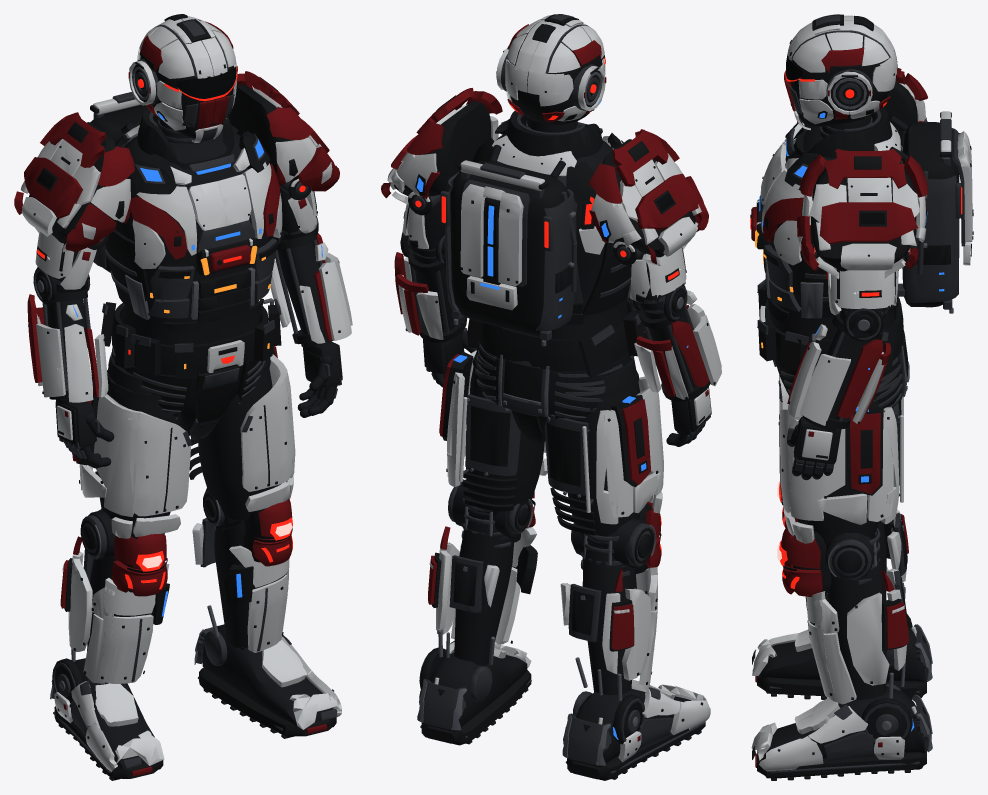
Rendered from sb_soldier_v3.glb.
The picture shows the model from 3 angles, left to right: view 1: azimuth 30°, elevation 25°; view 2: azimuth 150°, elevation 25°; view 3: azimuth 270°, elevation 25°; orthographic projection.
Visible parts, largest first — view 1: torso_undersuit, thigh_front_R, thigh_undersuit_L, thigh_front_L, boot_shaft_L, thigh_side_front_R, shin_lower_R, shin_undersuit_L, shin_lower_L, boot_sole_L, shoulder_undershell_L, belt (+86 smaller); view 2: pack_body, shin_undersuit_L, belt, shin_undersuit_R, pack_side_flank_R, shoulder_undershell_L, torso_undersuit, boot_shaft_L, thigh_undersuit_R, thigh_undersuit_L, torso_collar, pack_panel_R (+74 smaller); view 3: pack_side_flank_L, shoulder_outer_side_L, shin_side_L, shin_undersuit_L, boot_shaft_R, thigh_side_front_L, pack_body, upperarm_plate_side_L, forearm_outer_side_L, torso_undersuit, boot_sole_L, boot_shaft_L (+76 smaller).
Boxes of the visible parts, x1,y1,x2,y2 form: torso_undersuit: [115, 126, 269, 378]; thigh_front_R: [130, 411, 191, 516]; thigh_undersuit_L: [198, 359, 273, 519]; thigh_front_L: [240, 375, 293, 491]; boot_shaft_L: [202, 624, 332, 726]; thigh_side_front_R: [93, 394, 140, 517]; shin_lower_R: [99, 614, 153, 683]; shin_undersuit_L: [214, 519, 248, 648]; shin_lower_L: [247, 570, 289, 652]; boot_sole_L: [199, 668, 336, 737]; shoulder_undershell_L: [228, 84, 298, 181]; belt: [112, 303, 268, 375]; pack_body: [450, 160, 568, 335]; shin_undersuit_L: [454, 520, 514, 665]; belt: [479, 298, 636, 371]; shin_undersuit_R: [582, 548, 636, 694]; pack_side_flank_R: [535, 189, 575, 330]; shoulder_undershell_L: [394, 101, 490, 196]; torso_undersuit: [496, 132, 628, 371]; boot_shaft_L: [425, 652, 527, 732]; thigh_undersuit_R: [567, 358, 640, 541]; thigh_undersuit_L: [466, 342, 544, 516]; torso_collar: [505, 111, 602, 159]; pack_panel_R: [498, 192, 523, 286]; pack_side_flank_L: [902, 175, 959, 303]; shoulder_outer_side_L: [819, 202, 917, 244]; shin_side_L: [847, 592, 889, 685]; shin_undersuit_L: [827, 545, 886, 701]; boot_shaft_R: [760, 626, 925, 682]; thigh_side_front_L: [788, 414, 845, 520]; pack_body: [902, 122, 959, 307]; upperarm_plate_side_L: [831, 267, 894, 308]; forearm_outer_side_L: [799, 354, 850, 425]; torso_undersuit: [771, 126, 894, 339]; boot_sole_L: [757, 750, 926, 778]; boot_shaft_L: [760, 686, 924, 760].
Size of the model in its own units: 0.9025 by 2.01 by 0.5748.
